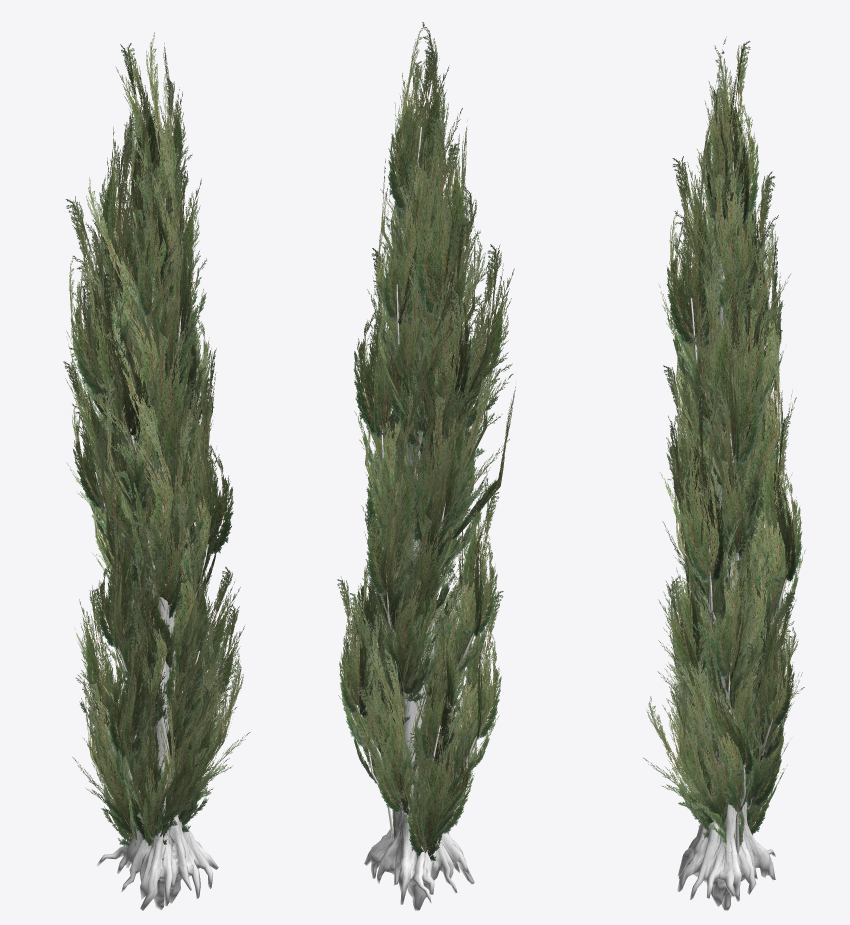
Rendered from CypressTree00b.fbx.
3 renders of one model, left to right at view 1: azimuth 30°, elevation 25°; view 2: azimuth 150°, elevation 25°; view 3: azimuth 270°, elevation 25°, orthographic. The views are drawn at different scales.
Parts seen in each view (by area): view 1: cypresstree00Trunk, CypressBranch_A024, CypressBranch_A018, CypressBranch_A008_1, CypressBranch_A020, CypressBranch_A022, CypressBranch_A006, CypressBranch_A002_1, CypressBranch_A004_1, CypressBranch_A026, CypressBranch_B078, CypressBranch_B079 (+54 smaller); view 2: cypresstree00Trunk, CypressBranch_A020, CypressBranch_A012, CypressBranch_A008, CypressBranch_A024, CypressBranch_A022, CypressBranch_A030, CypressBranch_A002_1, CypressBranch_A006, CypressBranch_A006_1, CypressBranch_A016, CypressBranch_B024 (+47 smaller); view 3: cypresstree00Trunk, CypressBranch_A030, CypressBranch_A018, CypressBranch_A008_1, CypressBranch_A008, CypressBranch_A012, CypressBranch_B038, CypressBranch_A004, CypressBranch_A006_1, CypressBranch_B025_1, CypressBranch_A006_2, CypressBranch_B023 (+53 smaller).
Boxes of the visible parts, bbox=[...] form: cypresstree00Trunk: bbox=[96, 394, 218, 910]; CypressBranch_A024: bbox=[84, 267, 151, 453]; CypressBranch_A018: bbox=[151, 168, 207, 350]; CypressBranch_A008_1: bbox=[186, 373, 233, 560]; CypressBranch_A020: bbox=[85, 117, 147, 310]; CypressBranch_A022: bbox=[65, 196, 121, 399]; CypressBranch_A006: bbox=[96, 517, 143, 649]; CypressBranch_A002_1: bbox=[75, 585, 125, 735]; CypressBranch_A004_1: bbox=[109, 629, 155, 759]; CypressBranch_A026: bbox=[64, 359, 121, 513]; CypressBranch_B078: bbox=[129, 401, 182, 584]; CypressBranch_B079: bbox=[97, 314, 159, 507]; cypresstree00Trunk: bbox=[364, 340, 474, 910]; CypressBranch_A020: bbox=[415, 116, 480, 320]; CypressBranch_A012: bbox=[387, 46, 450, 215]; CypressBranch_A008: bbox=[366, 438, 423, 597]; CypressBranch_A024: bbox=[453, 244, 514, 440]; CypressBranch_A022: bbox=[425, 223, 478, 407]; CypressBranch_A030: bbox=[353, 248, 399, 440]; CypressBranch_A002_1: bbox=[420, 615, 464, 764]; CypressBranch_A006: bbox=[452, 492, 499, 636]; CypressBranch_A006_1: bbox=[337, 577, 377, 717]; CypressBranch_A016: bbox=[382, 161, 431, 325]; CypressBranch_B024: bbox=[374, 539, 437, 695]; cypresstree00Trunk: bbox=[677, 259, 775, 910]; CypressBranch_A030: bbox=[698, 277, 760, 468]; CypressBranch_A018: bbox=[666, 156, 723, 350]; CypressBranch_A008_1: bbox=[680, 395, 724, 583]; CypressBranch_A008: bbox=[755, 416, 802, 584]; CypressBranch_A012: bbox=[706, 41, 759, 227]; CypressBranch_B038: bbox=[685, 126, 764, 349]; CypressBranch_A004: bbox=[713, 539, 761, 680]; CypressBranch_A006_1: bbox=[753, 592, 796, 726]; CypressBranch_B025_1: bbox=[682, 449, 741, 621]; CypressBranch_A006_2: bbox=[699, 651, 753, 778]; CypressBranch_B023: bbox=[746, 461, 805, 630].
Bounding box in the file's own units: 531 × 1939 × 462.
